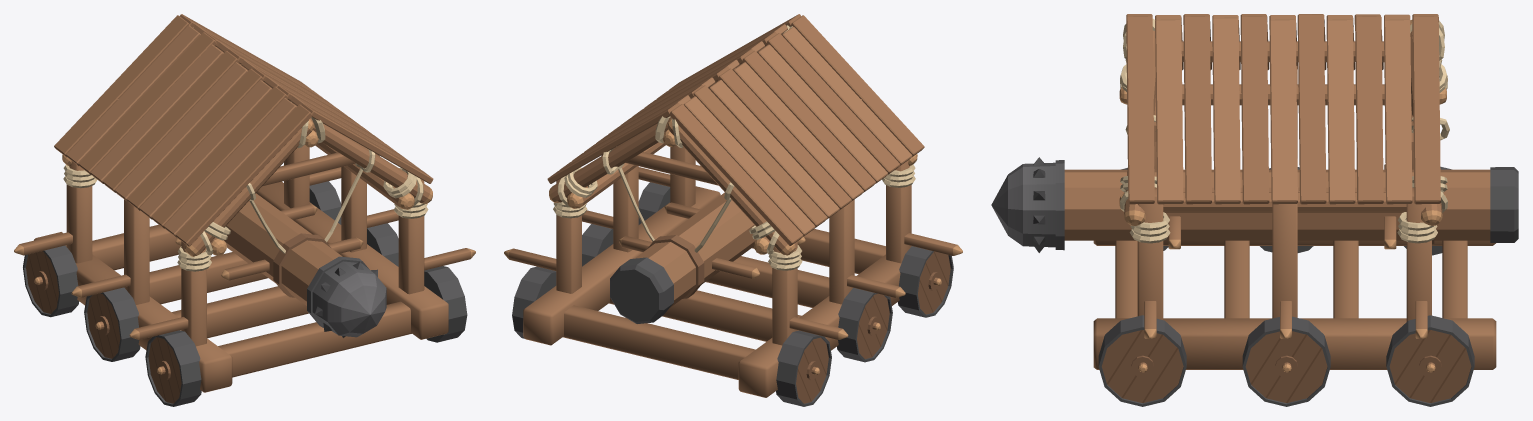
The model's file is WallDestroyer_1.fbx.
3 renders of one model, left to right at view 1: azimuth 30°, elevation 25°; view 2: azimuth 150°, elevation 25°; view 3: azimuth 270°, elevation 25°, orthographic. The views are drawn at different scales.
Parts seen in each view (by area): view 1: WallDestroyer_1, DestroyerLog, Wheel_1, Wheel_2, Wheel_3, Wheel_6, Wheel_5, Wheel_4; view 2: WallDestroyer_1, DestroyerLog, Wheel_3, Wheel_2, Wheel_1, Wheel_4, Wheel_5, Wheel_6; view 3: WallDestroyer_1, DestroyerLog, Wheel_4, Wheel_6, Wheel_5.
Boxes of the visible parts, x1,y1,x2,y2 form: WallDestroyer_1: (14, 14, 475, 392); DestroyerLog: (175, 193, 386, 337); Wheel_1: (145, 330, 201, 406); Wheel_2: (84, 287, 140, 361); Wheel_3: (23, 245, 79, 317); Wheel_6: (424, 266, 467, 342); Wheel_5: (367, 223, 398, 266); Wheel_4: (309, 181, 341, 224); WallDestroyer_1: (504, 14, 962, 397); DestroyerLog: (610, 192, 805, 323); Wheel_3: (776, 330, 831, 406); Wheel_2: (837, 288, 892, 362); Wheel_1: (898, 246, 953, 317); Wheel_4: (512, 266, 556, 338); Wheel_5: (582, 224, 613, 266); Wheel_6: (638, 182, 670, 224); WallDestroyer_1: (1093, 14, 1496, 369); DestroyerLog: (991, 157, 1518, 252); Wheel_4: (1386, 315, 1474, 406); Wheel_6: (1098, 315, 1186, 406); Wheel_5: (1242, 316, 1330, 406).
Bounding box in the file's own units: 275 × 202 × 310.
